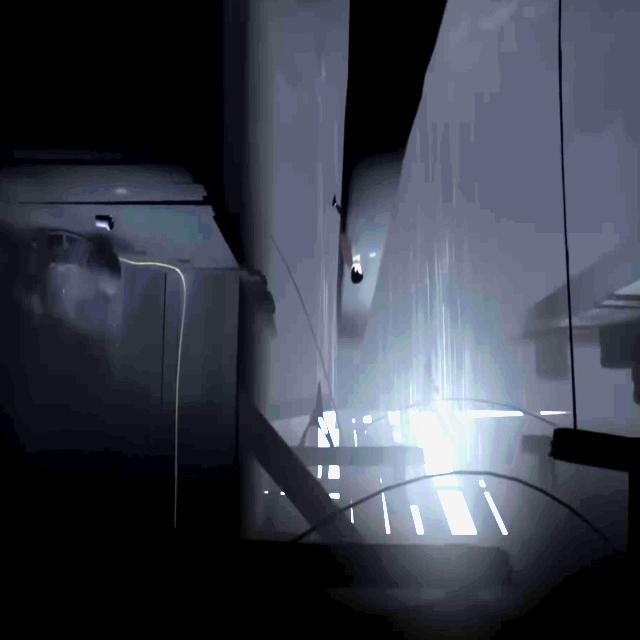boy: (332, 194, 363, 284)
